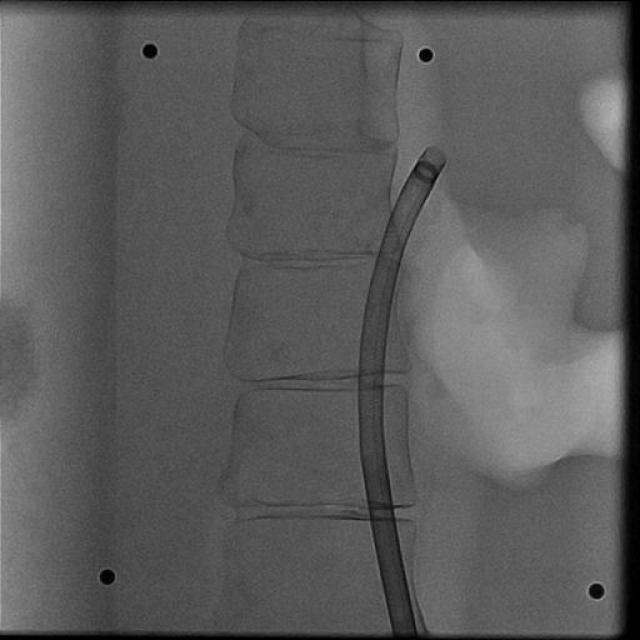bend: (359, 438, 386, 454)
entry: (393, 628, 417, 634)
marker: (413, 163, 438, 185)
tip: (424, 147, 448, 164)
